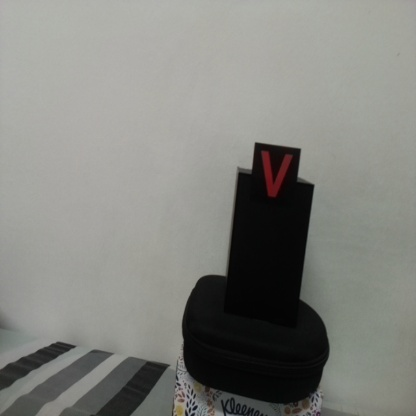id_11: (253, 145, 298, 213)
